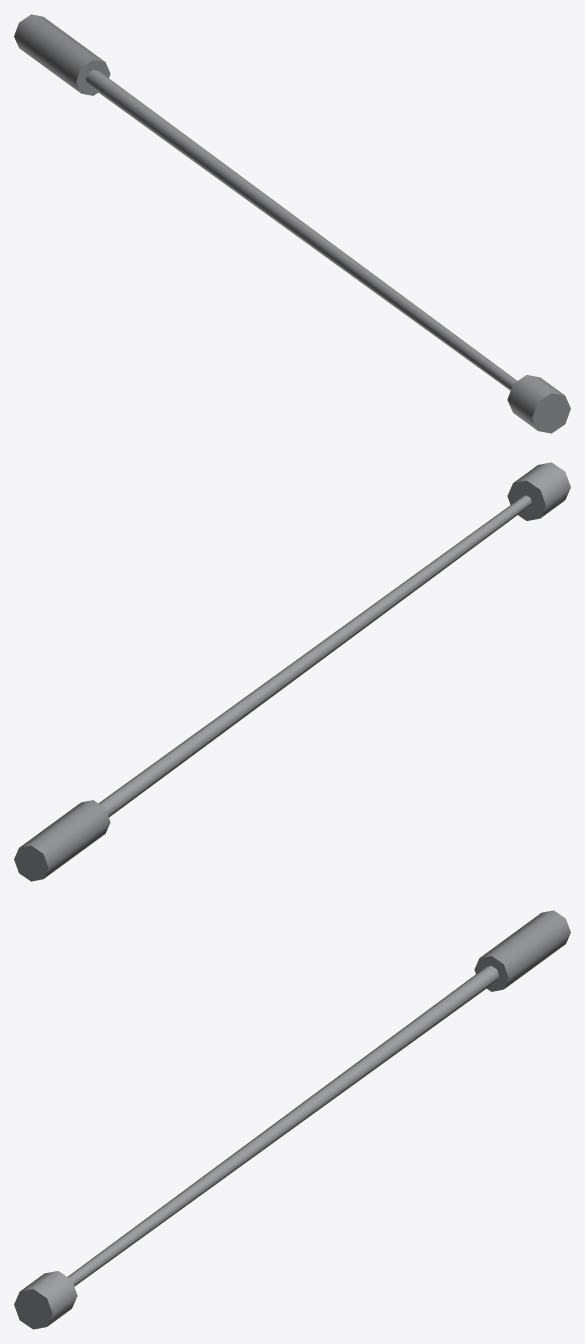
3 renders of one model, top to bottom at view 1: azimuth 30°, elevation 25°; view 2: azimuth 150°, elevation 25°; view 3: azimuth 330°, elevation 25°, orthographic.
Bounding box in the file's own units: 0.09 × 0.09 × 2.09.
